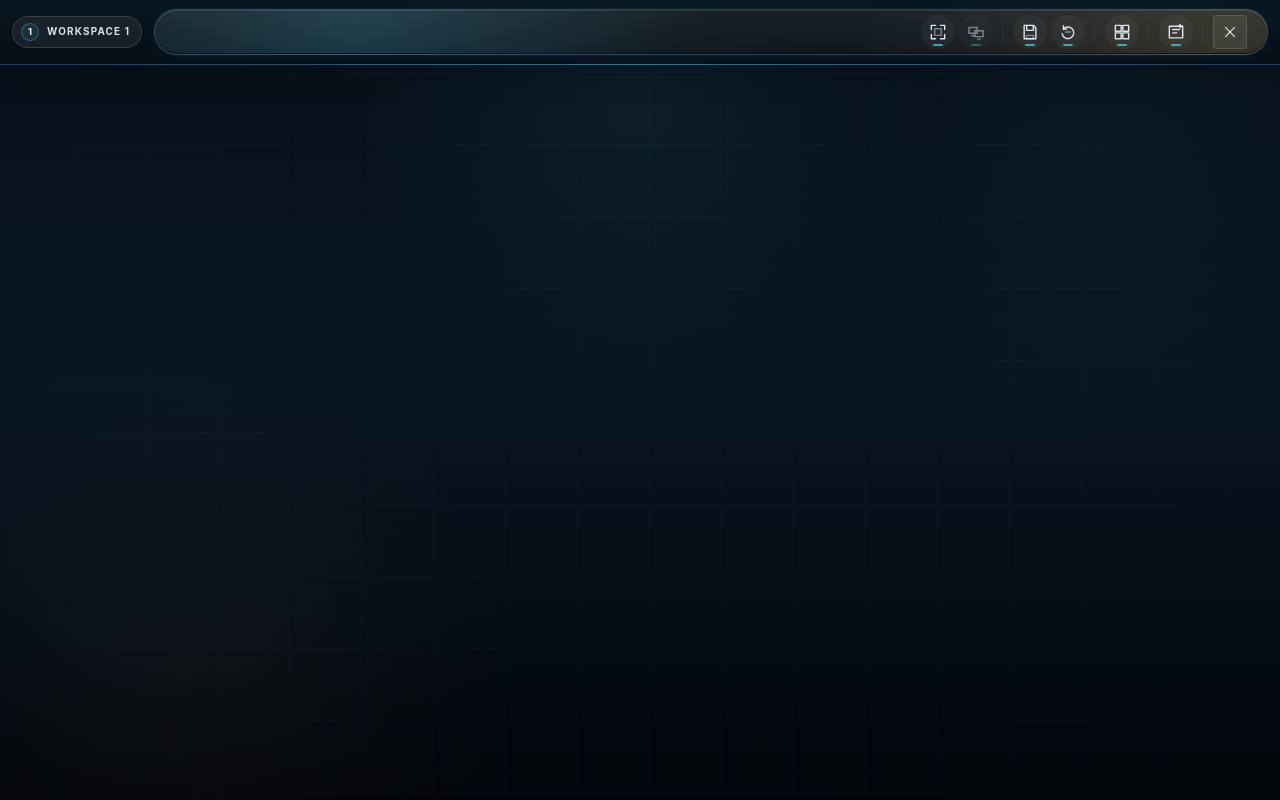
Shell workspace tracking › keeps a same-window extension workspace saved after closing back to the hub
Click the button named "Close workspace extension" at (1230, 32), box x1=1213 y1=15 x2=1247 y2=49
Wait 2500 ms
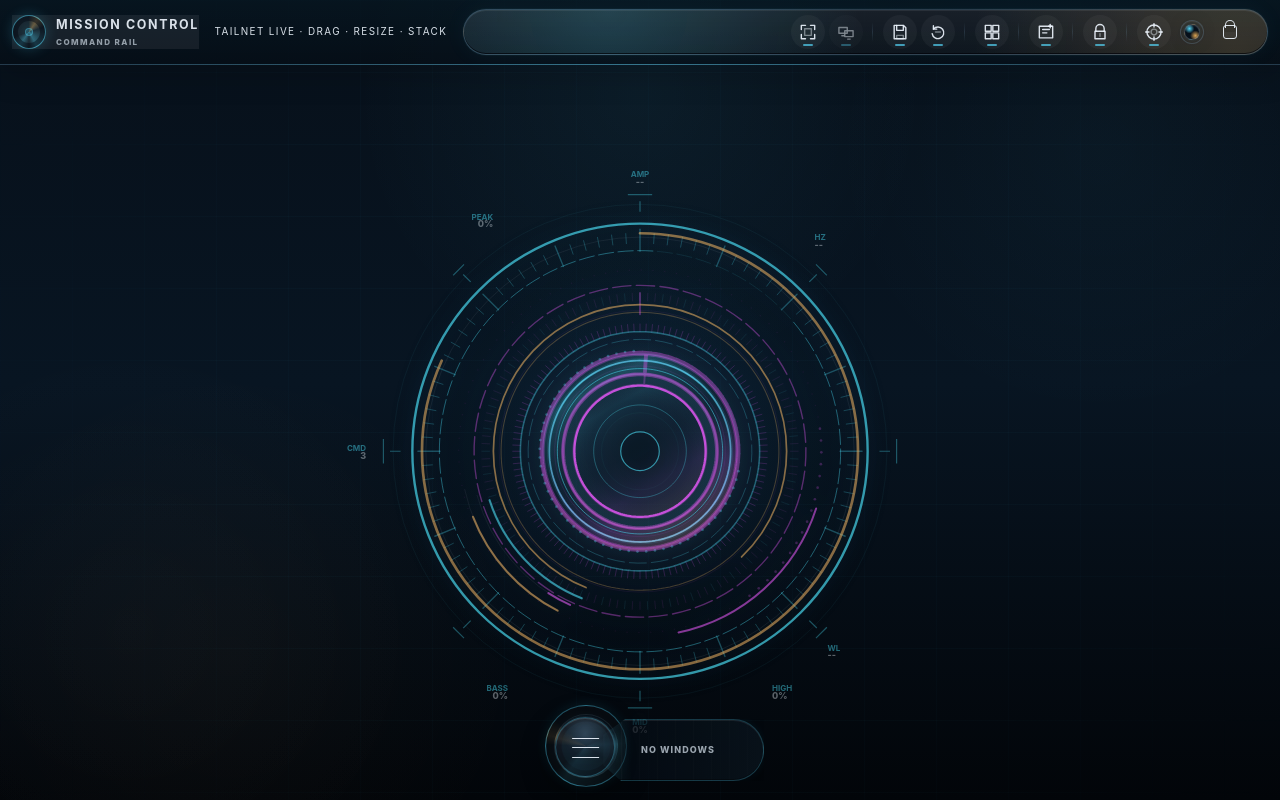
Click the button named "Open workspace setup" at (585, 747), box x1=555 y1=717 x2=615 y2=777
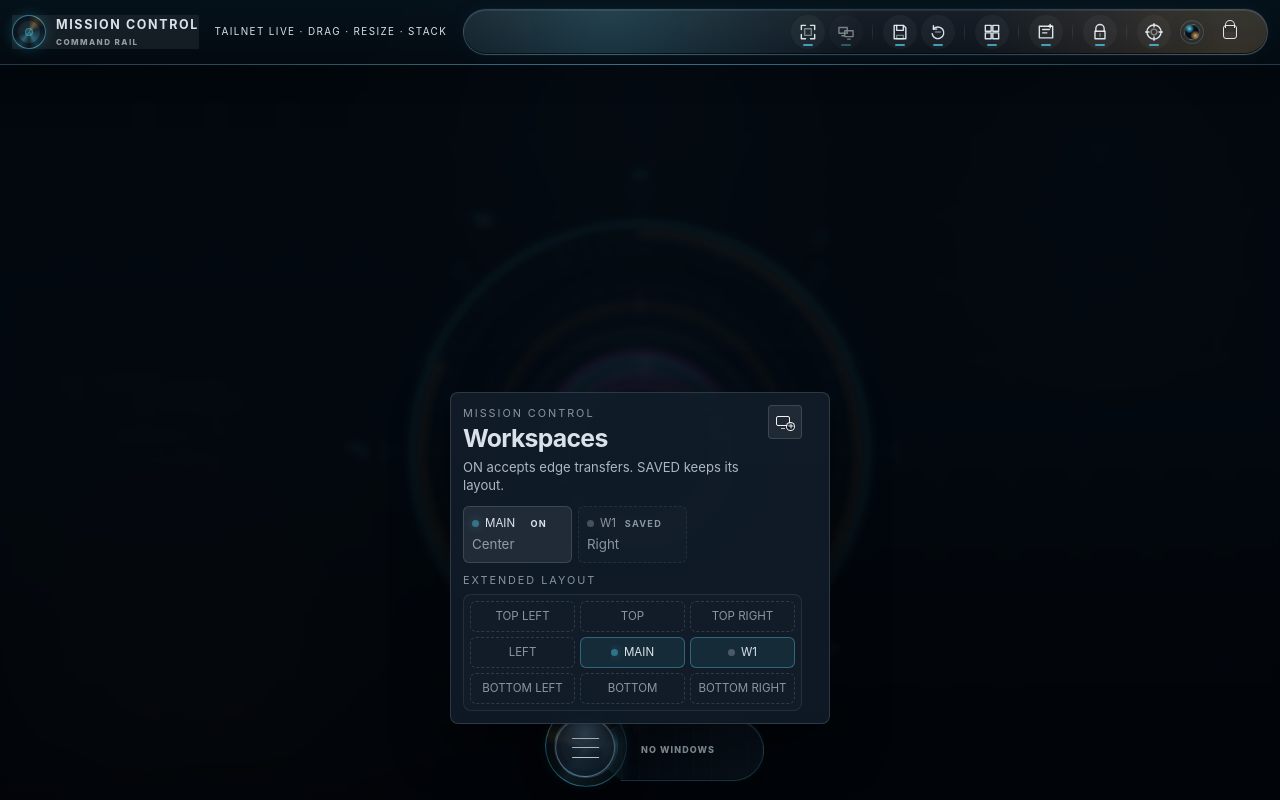
Expected: the button with aria-label "workspace 1, saved, right" is shown, x1=578 y1=506 x2=687 y2=563
